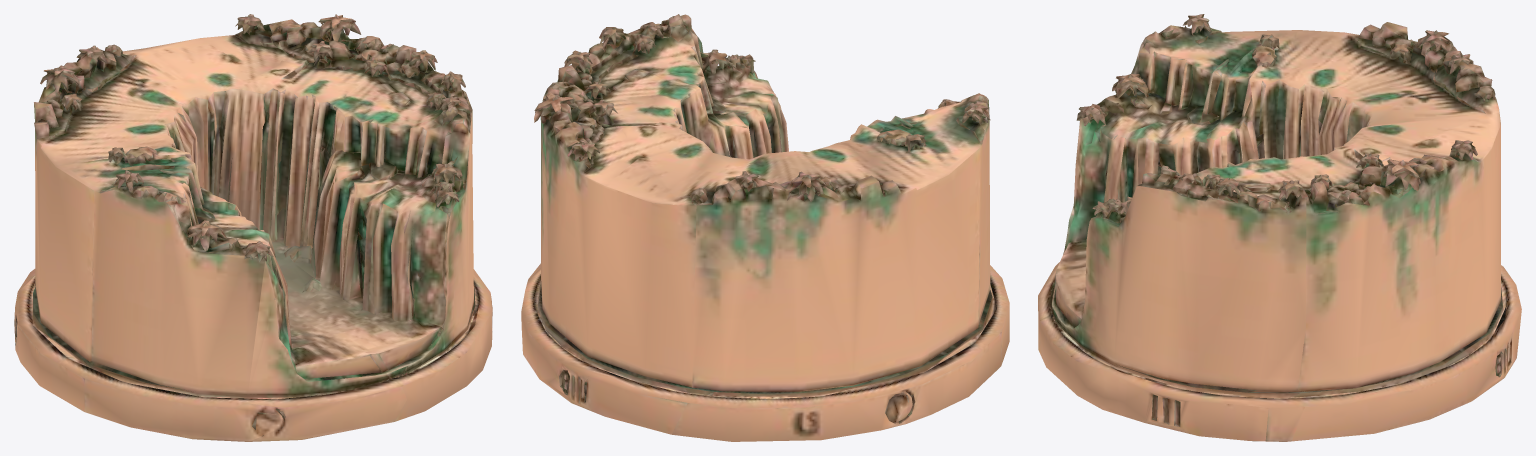
Rendered from iguazu_falls.glb.
The picture shows the model from 3 angles, left to right: view 1: azimuth 30°, elevation 25°; view 2: azimuth 150°, elevation 25°; view 3: azimuth 270°, elevation 25°; orthographic projection. The views are drawn at different scales.
Visible parts, largest first — view 1: Mesh_0; view 2: Mesh_0; view 3: Mesh_0.
Part boxes in pixels (left/top/right/bottom): Mesh_0: left=14, top=14, right=492, bottom=441; Mesh_0: left=521, top=14, right=1009, bottom=441; Mesh_0: left=1038, top=14, right=1521, bottom=441.
Bounding box in the file's own units: 1.91 × 1.1 × 1.9.
Materials: 1 (1 with a texture image).
